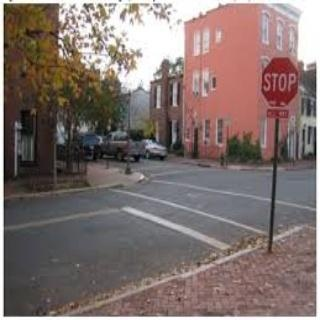sign_stop: (261, 60, 299, 105)
